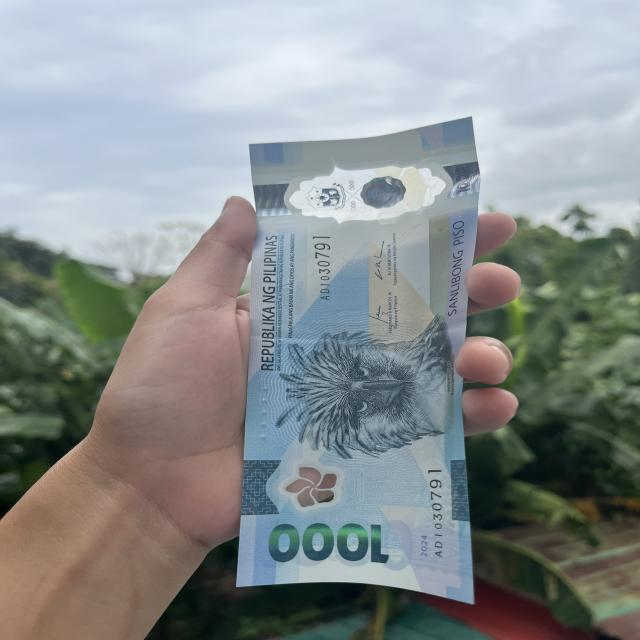clear_window: (288, 168, 441, 215)
eagle: (283, 330, 447, 450)
sampaguita: (259, 451, 361, 516)
security_thread: (248, 322, 467, 341)
serial_number: (417, 458, 449, 566), (301, 230, 343, 305)
value_watermark: (452, 154, 473, 202)
